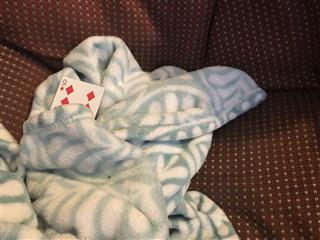NineOfDiamonds: (49, 75, 104, 118)
